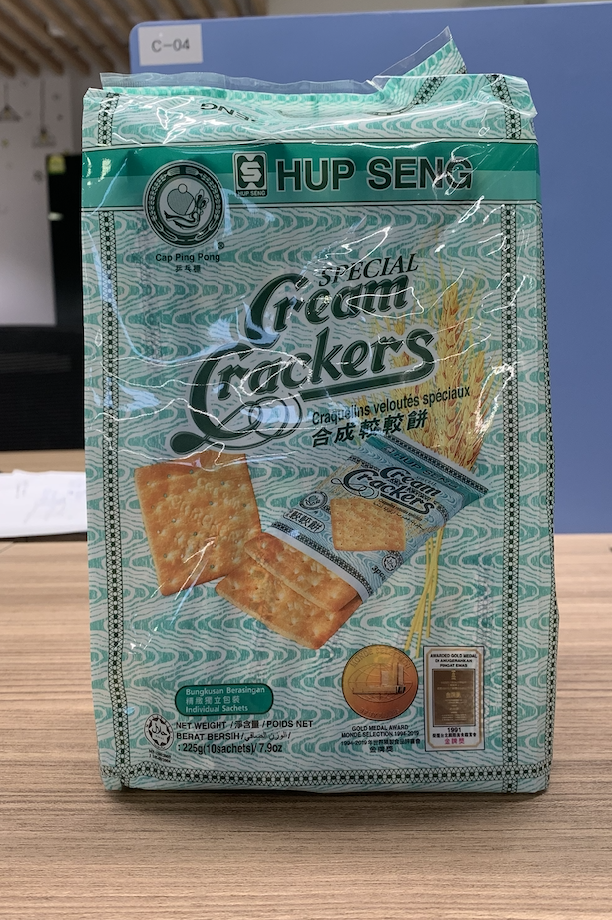halal: (147, 716, 169, 746)
